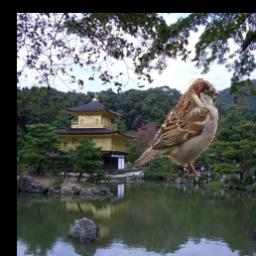Sparrow: (132, 79, 220, 178)
